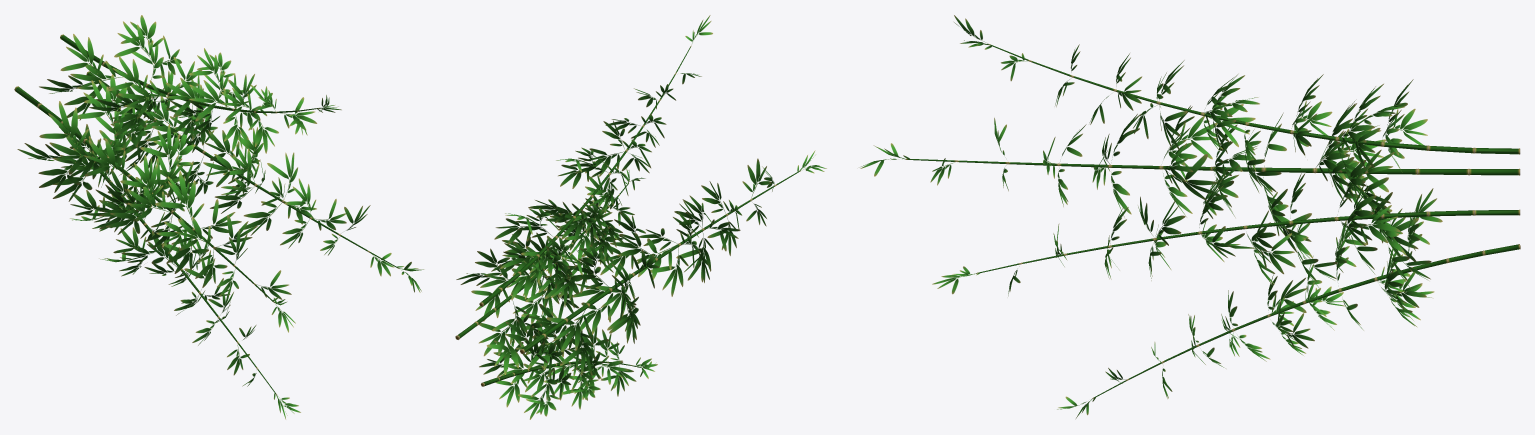
Rendered from Pl_Bamboo.glb.
3 views of the same model, side by side, from view 1: azimuth 30°, elevation 25°; view 2: azimuth 150°, elevation 25°; view 3: azimuth 270°, elevation 25° (orthographic). The views are drawn at different scales.
Visible parts, largest first — view 1: bamboo; view 2: bamboo; view 3: bamboo.
Part boxes in pixels (bbox=[...]): bamboo: bbox=[14, 15, 423, 419]; bamboo: bbox=[455, 15, 826, 419]; bamboo: bbox=[859, 15, 1520, 418].
Bounding box in the file's own units: 2.38 × 4 × 6.02.
1 material, 1 textured.
